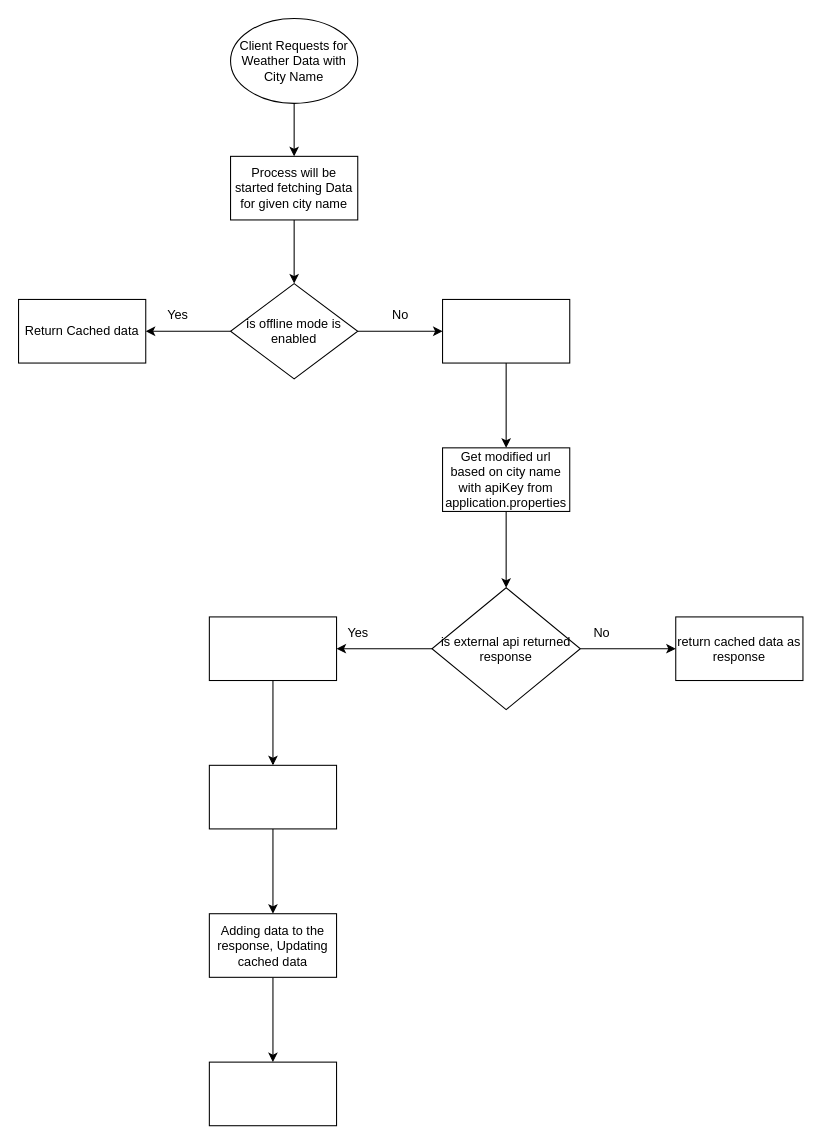
Image size: 821x1145. Some labels were removed from this diagram. The shapes that lost their labels are listed below. From the top down, each one's centre as x and y in pixels, then its label:
At (x=505, y=330): "Fetch the weather data for given city name".
At (x=272, y=648): "Fetches the external api data".
At (x=272, y=796): "Parse the data as per requirenement".
At (x=272, y=1093): "Response".
